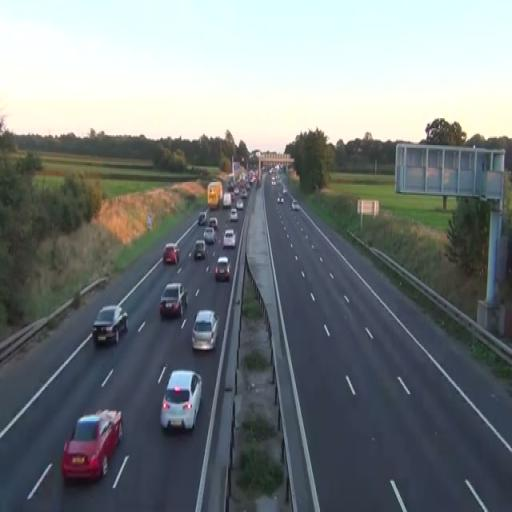Car: (60, 409, 124, 483), (160, 369, 202, 433), (92, 304, 128, 346), (159, 282, 188, 320), (192, 310, 218, 350), (215, 256, 231, 282), (162, 243, 180, 265), (222, 228, 236, 250), (194, 240, 206, 261), (204, 226, 214, 245), (229, 208, 238, 222)
